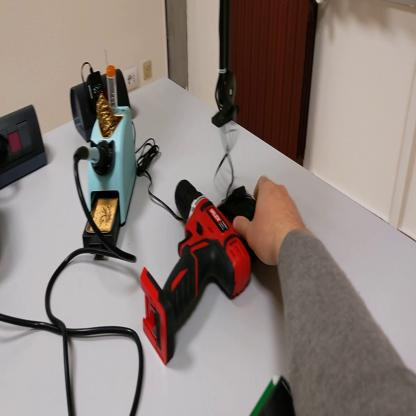electric screwdriver: (140, 170, 256, 373)
hand: (234, 176, 304, 268)
low voltage board: (247, 380, 313, 415)
socket: (68, 71, 135, 142), (2, 104, 51, 193)
welder base: (74, 63, 132, 266)
welder probe tip: (75, 142, 118, 176)
